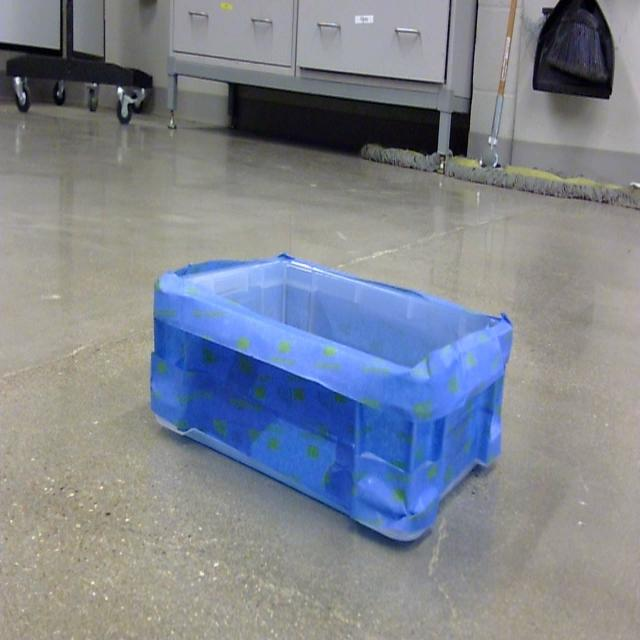bucket: (148, 254, 514, 548)
